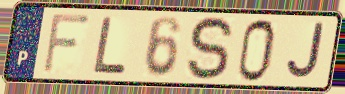0: (235, 17, 279, 83)
6: (143, 15, 183, 79)
F: (40, 11, 93, 75)
J: (285, 21, 327, 82)
L: (92, 15, 130, 76)
S: (185, 15, 236, 84)
